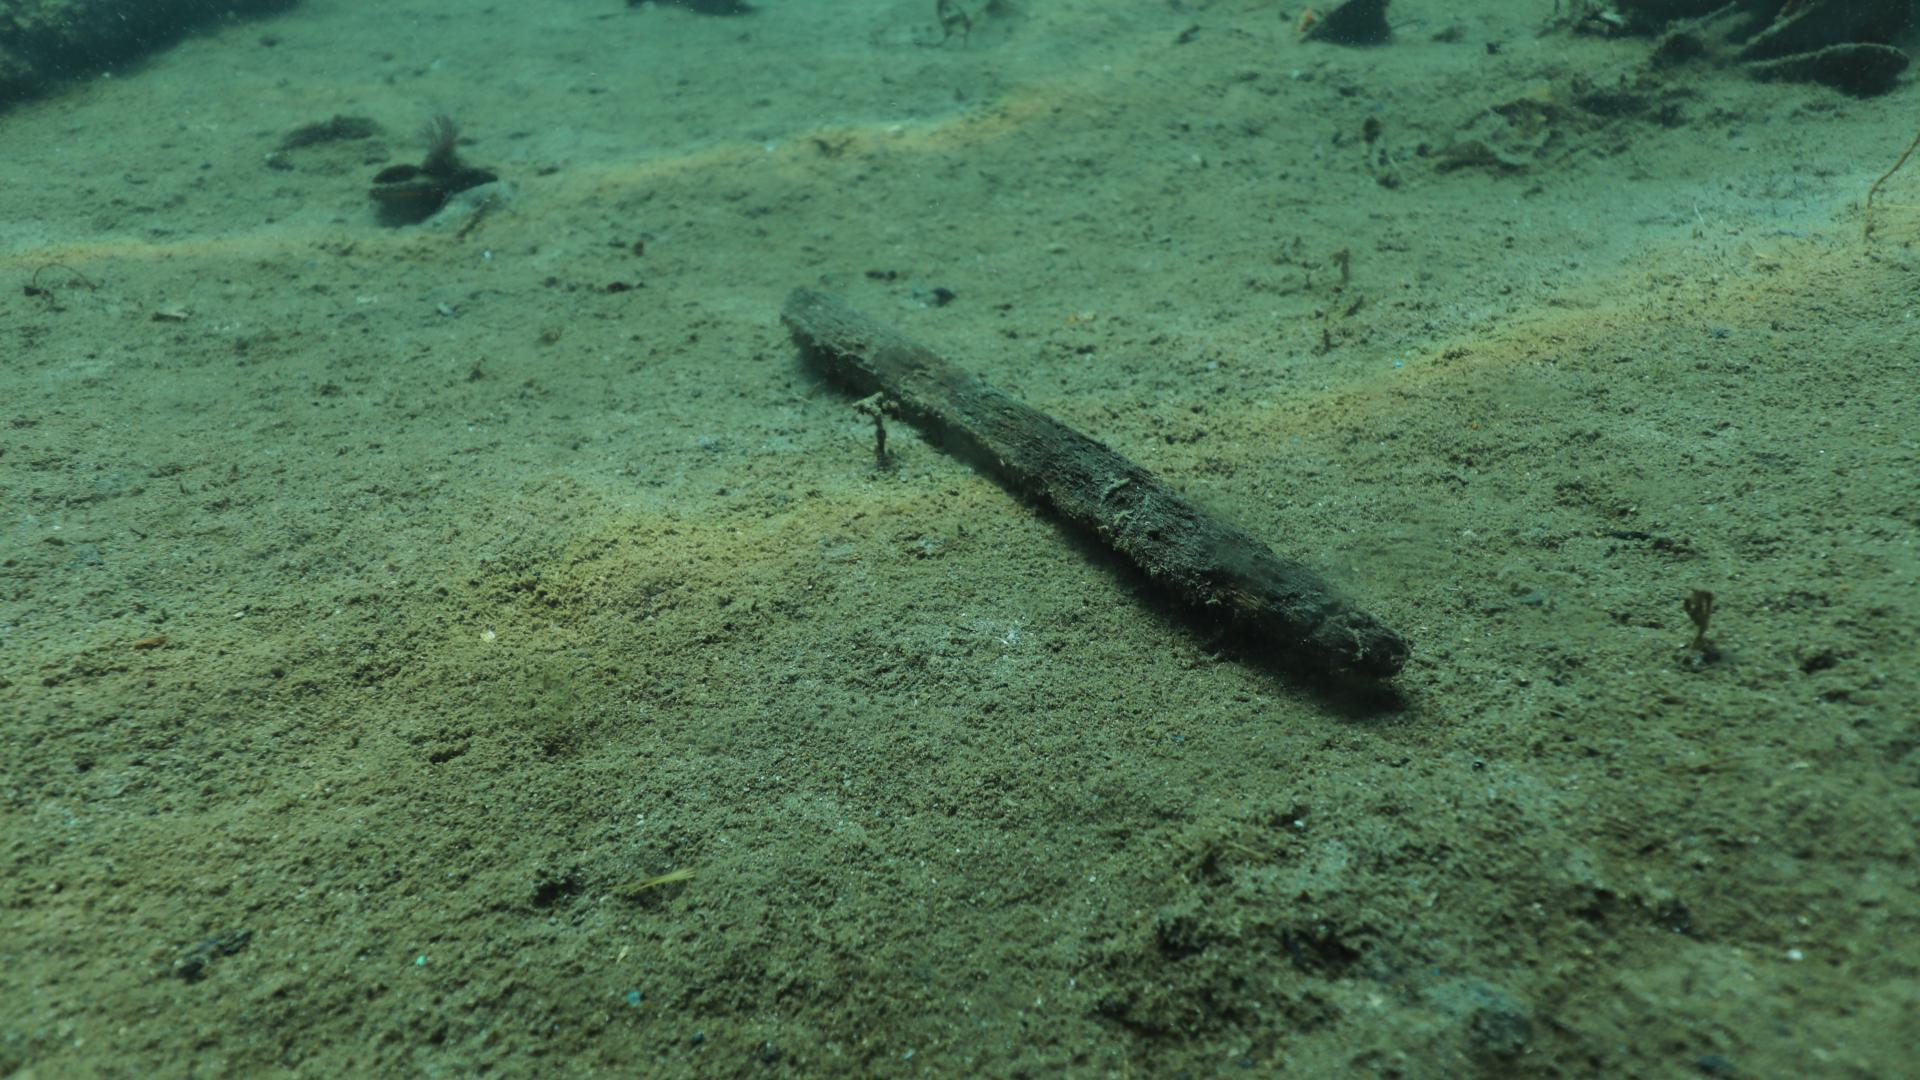wood: (778, 282, 1414, 678)
